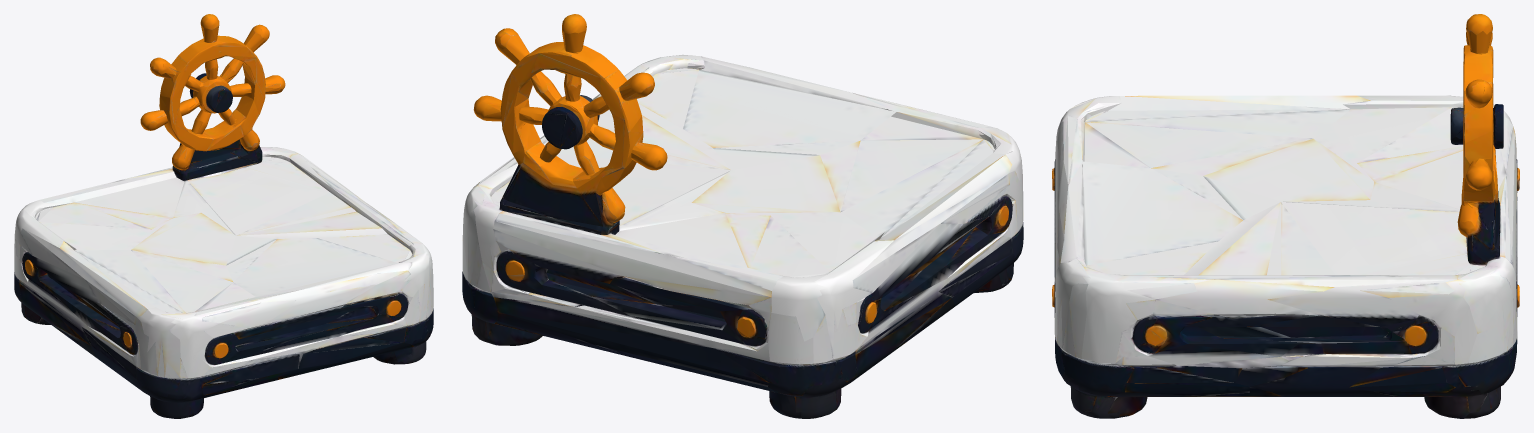
3 renders of one model, left to right at view 1: azimuth 30°, elevation 25°; view 2: azimuth 150°, elevation 25°; view 3: azimuth 270°, elevation 25°, orthographic. The views are drawn at different scales.
Bounding box in the file's own units: 1.9 × 1.58 × 1.9.
Materials: 1 (1 with a texture image).
